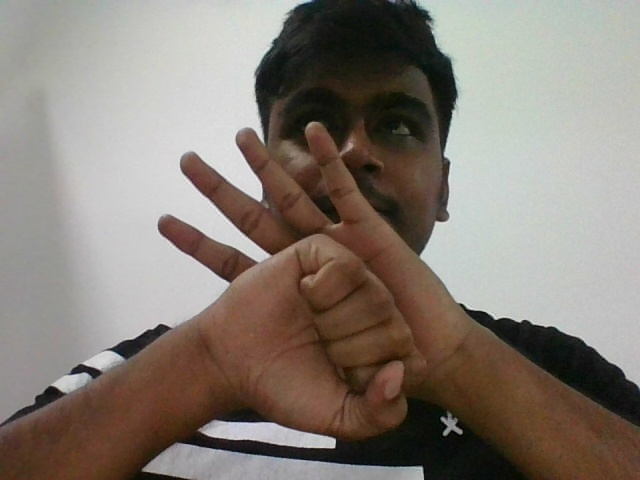coronavirus: (155, 120, 475, 440)
